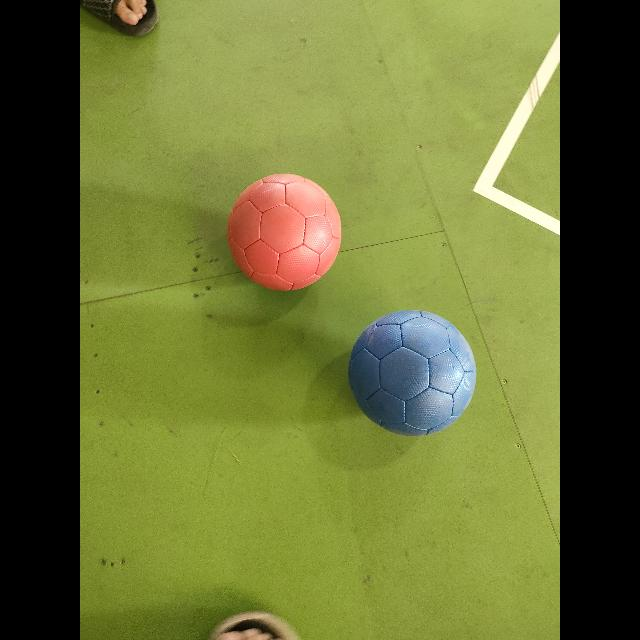B: (349, 311, 476, 436)
R: (228, 174, 341, 290)
